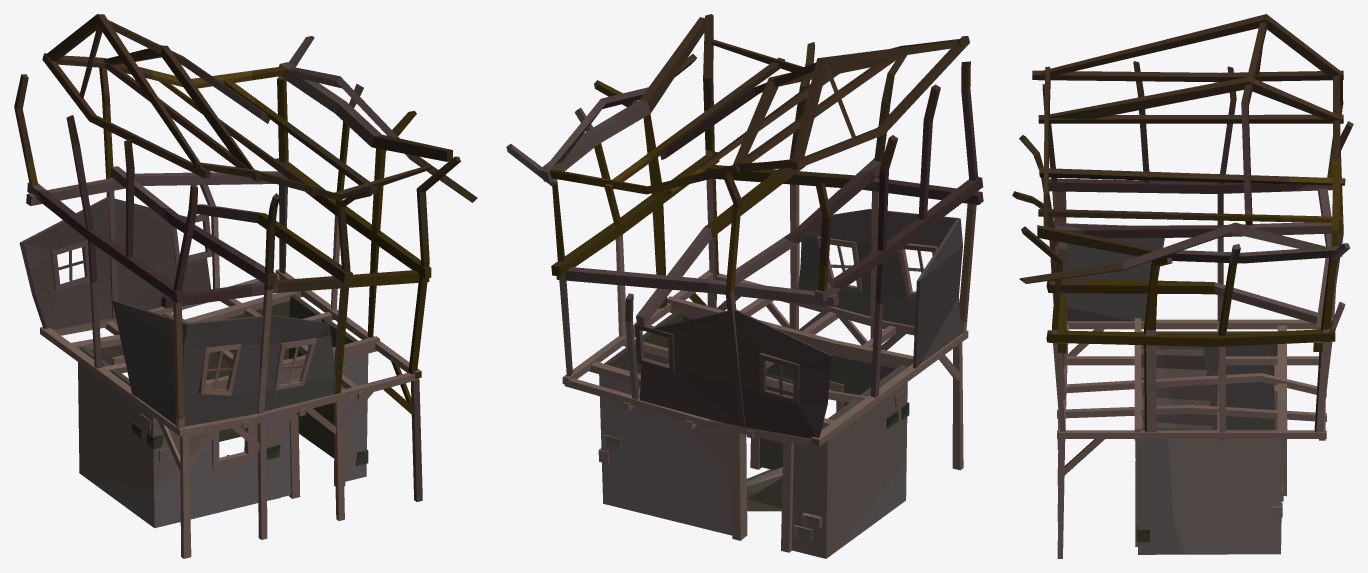
File: burned-frame.glb
3 renders of one model, left to right at view 1: azimuth 30°, elevation 25°; view 2: azimuth 150°, elevation 25°; view 3: azimuth 270°, elevation 25°, orthographic. The views are drawn at different scales.
Visible parts, largest first — view 1: gtmfc_house_large_burned; view 2: gtmfc_house_large_burned; view 3: gtmfc_house_large_burned.
Part boxes in pixels (x1,y1,x2,y2): gtmfc_house_large_burned: (14,14,477,558); gtmfc_house_large_burned: (506,14,983,558); gtmfc_house_large_burned: (1012,14,1353,558).
Size of the model in its own units: 5.24 by 7.35 by 5.07.
1 material, 1 textured.
